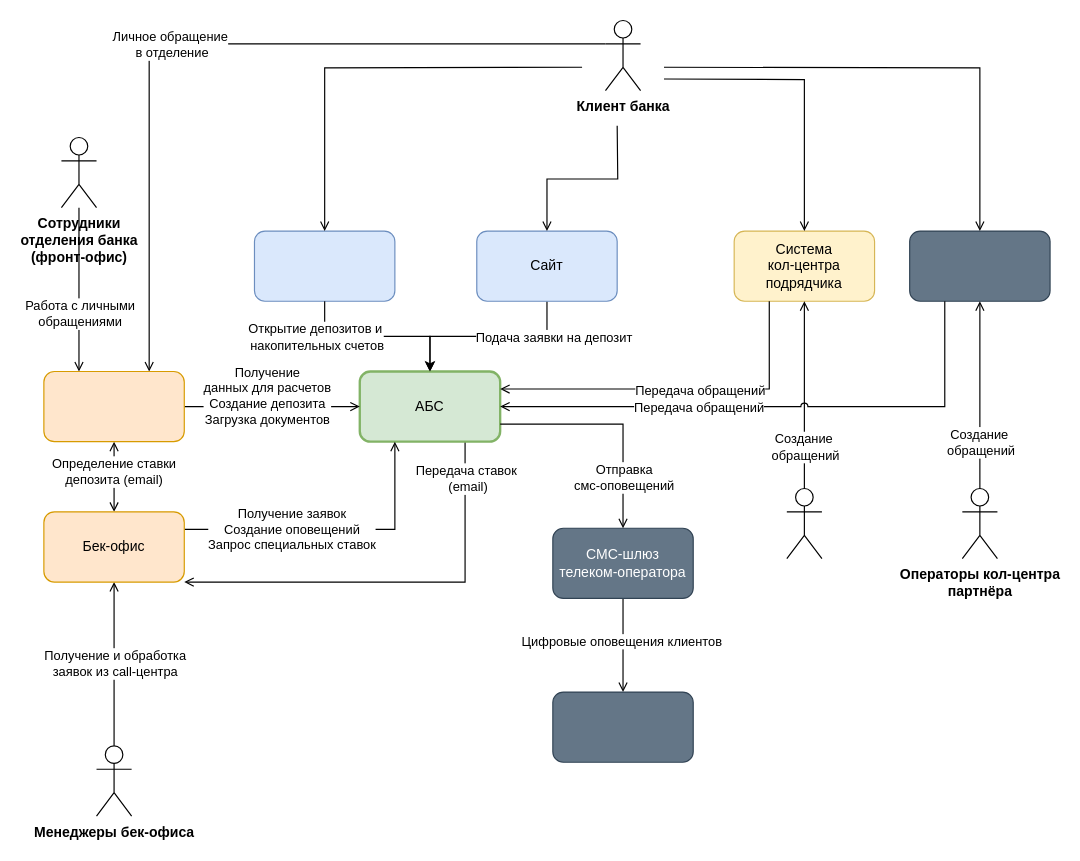
The diagram is 1080 pixels wide and 861 high, and some of its shapes have lost their labels. The centre of each missing label's shape, as x and y in pixels:
Интернет-банк: point (324, 265)
Операторы кол-центра: point (804, 523)
Система партнёрского кол-центра: point (979, 265)
Телеком-оператор: point (622, 726)
Фронт-офис: point (113, 406)
